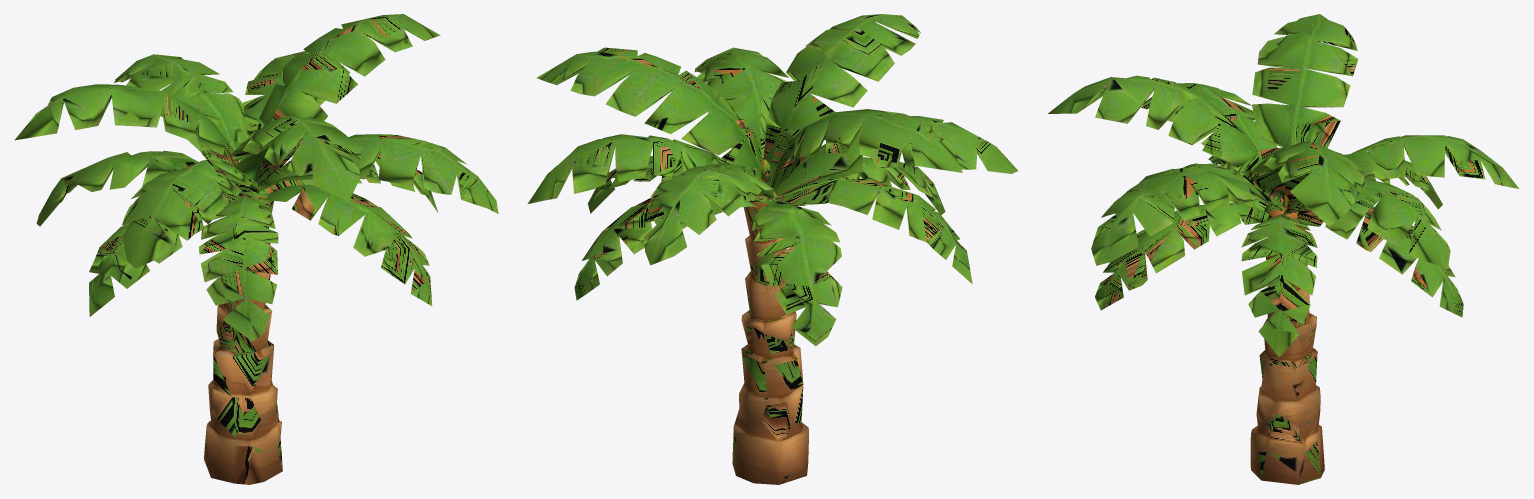
File: palm.glb
3 views of the same model, side by side, from view 1: azimuth 30°, elevation 25°; view 2: azimuth 150°, elevation 25°; view 3: azimuth 270°, elevation 25° (orthographic). The views are drawn at different scales.
Visible parts, largest first — view 1: geometry_0; view 2: geometry_0; view 3: geometry_0.
Part boxes in pixels (x1=…): geometry_0: x1=15, y1=14, x2=498, y2=484; geometry_0: x1=528, y1=14, x2=1017, y2=484; geometry_0: x1=1048, y1=14, x2=1518, y2=484.
Size of the model in its own units: 0.9512 by 0.853 by 0.9497.
Materials: 1 (1 with a texture image).
